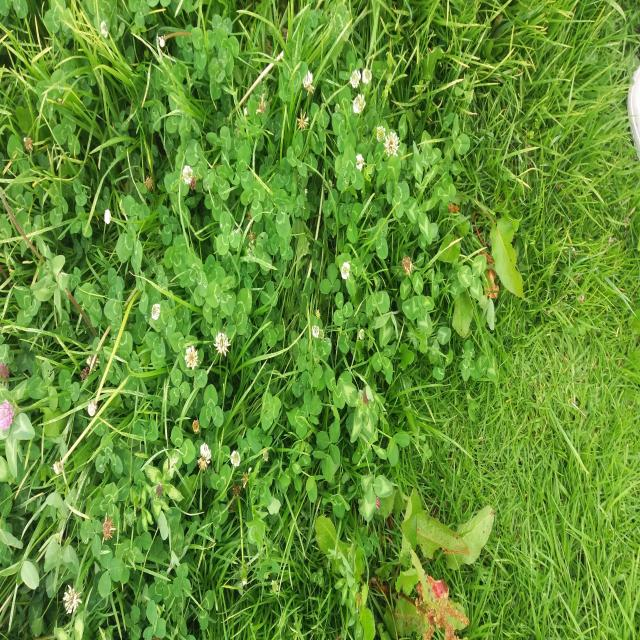Four Leaf Clover: (269, 189, 293, 237)
